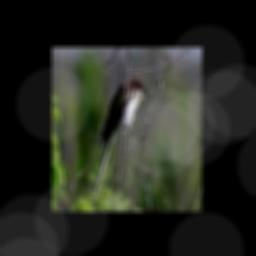Cuckoo: (93, 77, 149, 200)
